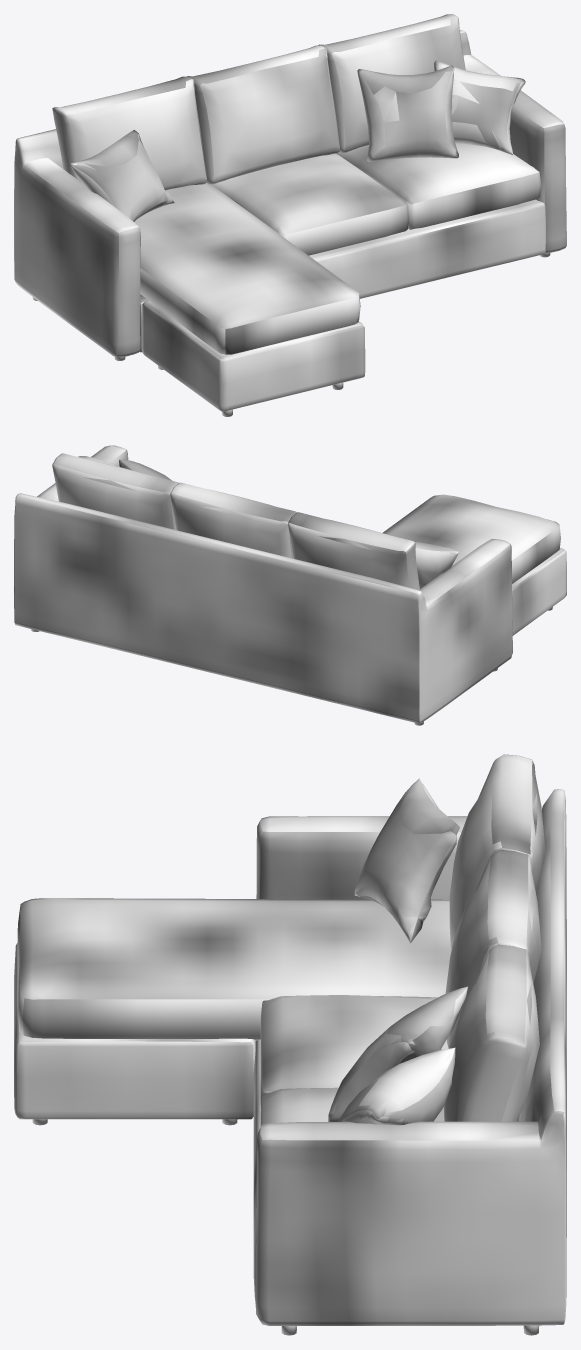
Rendered from Sofa1.fbx.
3 views of the same model, one above another, from view 1: azimuth 30°, elevation 25°; view 2: azimuth 150°, elevation 25°; view 3: azimuth 270°, elevation 25° (orthographic). The views are drawn at different scales.
Visible parts, largest first — view 1: Sofa Sectional 003; view 2: Sofa Sectional 003; view 3: Sofa Sectional 003.
Boxes of the visible parts, x1,y1,x2,y2 form: Sofa Sectional 003: (14,14,566,411); Sofa Sectional 003: (14,445,566,723); Sofa Sectional 003: (14,754,566,1325).
Bounding box in the file's own units: 228 × 91.4 × 161.
